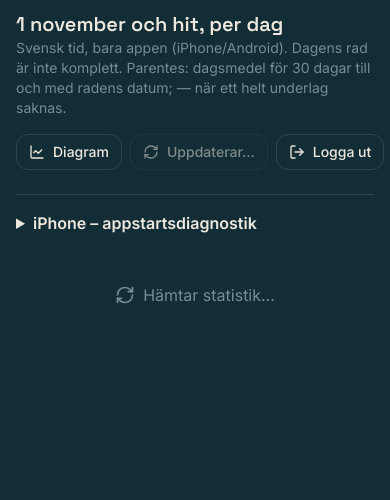
Test: admin authentication and statistics are separate › logout invalidates a pending statistics response
Click the button "Logga ut": (330, 152) [276,134,384,170]
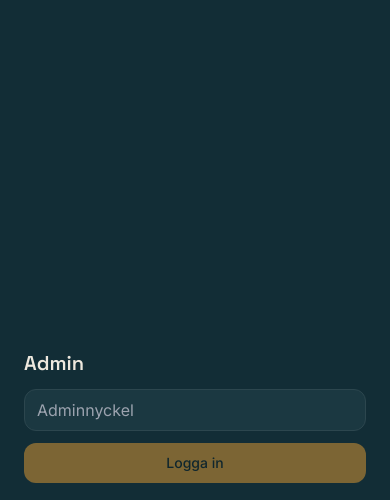
expect the button "Logga in" is shown: met, box [24,443,366,483]
